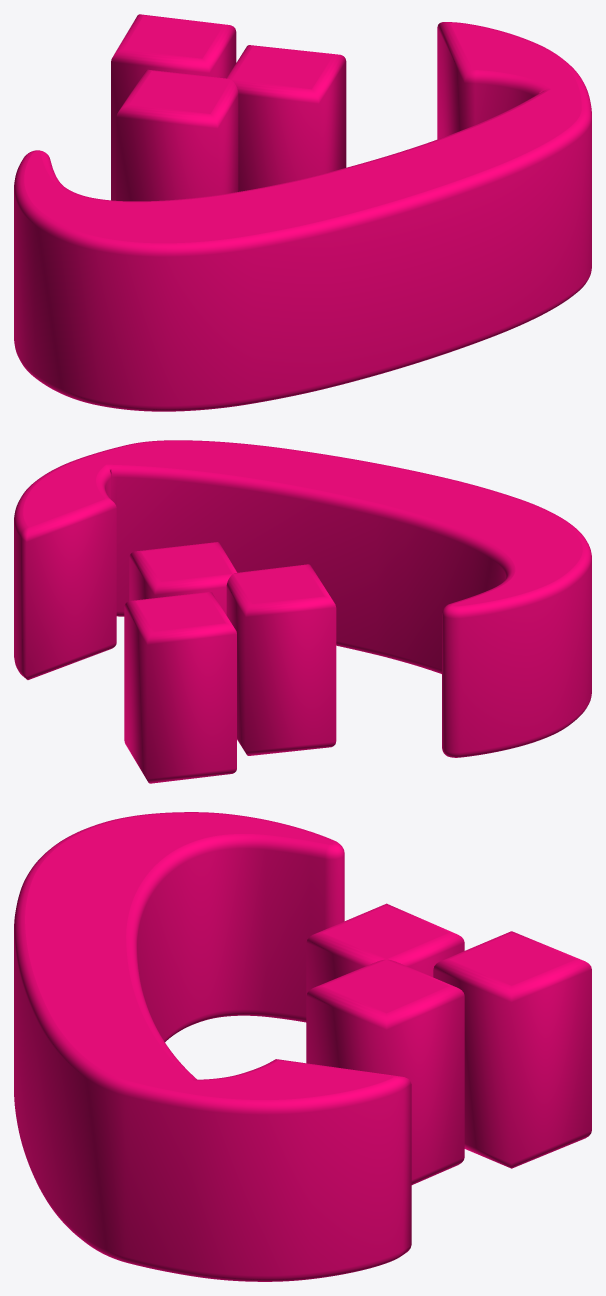
Rendered from 4 tsa.fbx.
3 renders of one model, top to bottom at view 1: azimuth 30°, elevation 25°; view 2: azimuth 150°, elevation 25°; view 3: azimuth 270°, elevation 25°, orthographic. The views are drawn at different scales.
Parts seen in each view (by area): view 1: Text.162; view 2: Text.162; view 3: Text.162.
Boxes of the visible parts, x1,y1,x2,y2 form: Text.162: [14, 14, 591, 411]; Text.162: [14, 440, 591, 783]; Text.162: [14, 812, 591, 1281].
Size of the model in its own units: 63.25 by 18 by 52.13.
